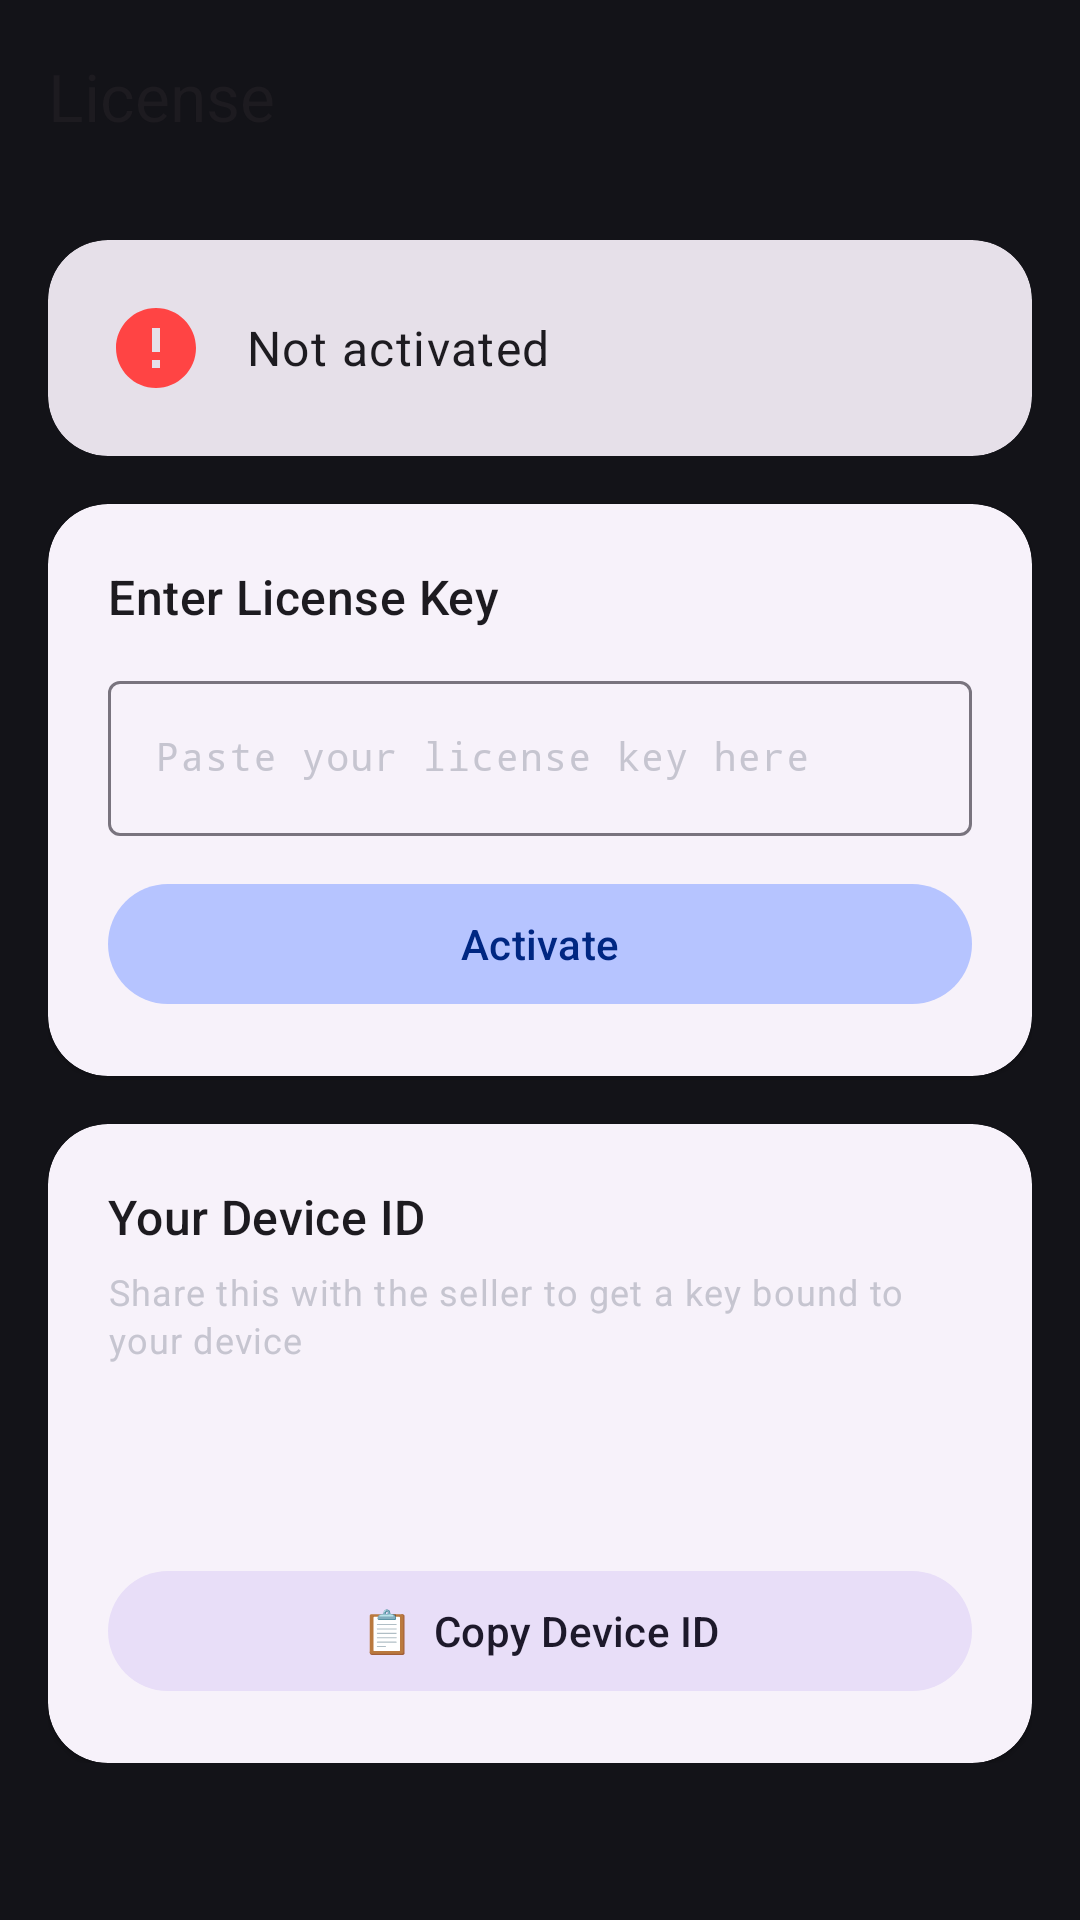

Where to tap for icons on this 1080*1920 app screen, as point (x, y):
error: point (156, 348)
